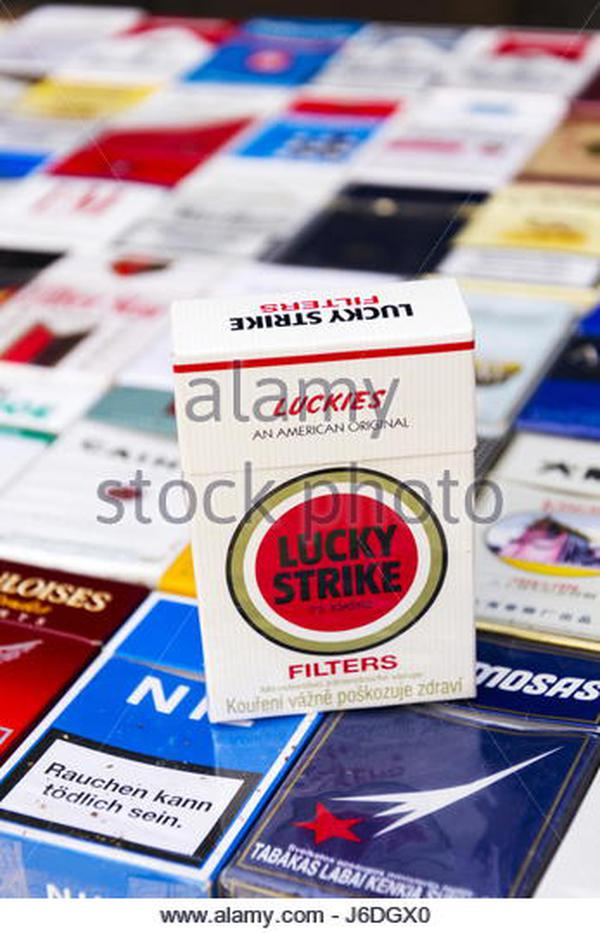lucky_strike_red: (203, 338, 471, 702)
